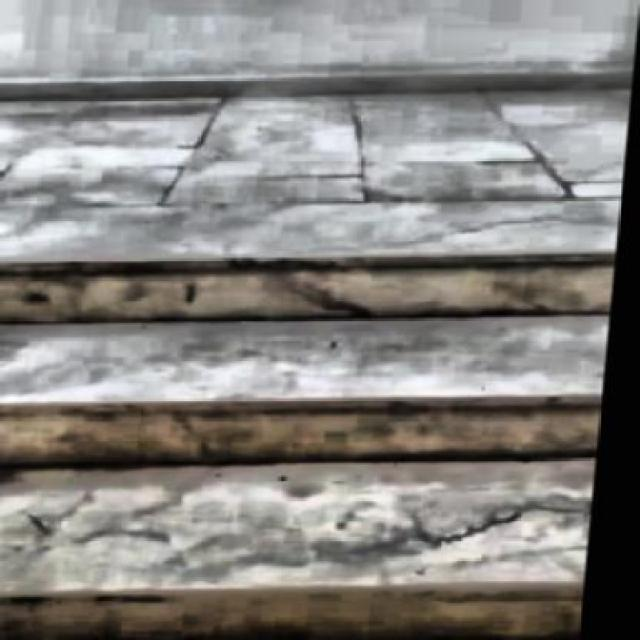stair: (0, 253, 618, 638)
